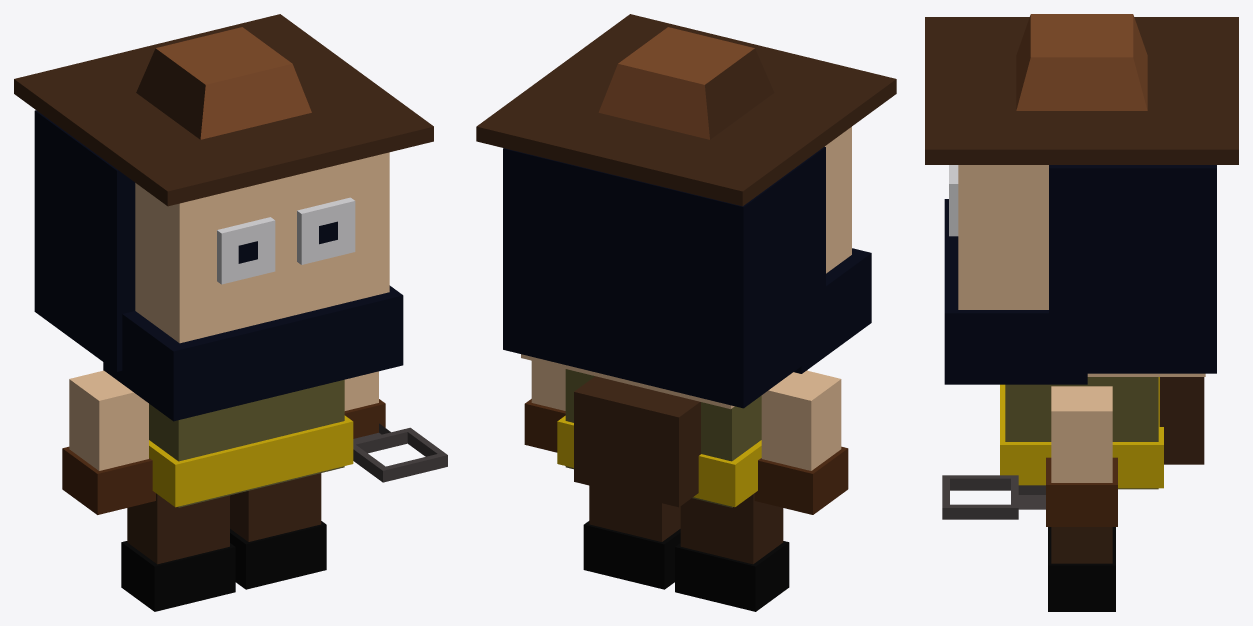
Rendered from character.fbx.
The picture shows the model from 3 angles, left to right: view 1: azimuth 30°, elevation 25°; view 2: azimuth 150°, elevation 25°; view 3: azimuth 270°, elevation 25°; orthographic projection. The views are drawn at different scales.
Visible parts, largest first — view 1: Head, Hat, Torso, RightLeg, RightArm, LeftLeg, Cube, LeftArm; view 2: Head, Hat, Torso, RightArm, RightLeg, LeftLeg, LeftArm; view 3: Head, Hat, Torso, LeftArm, LeftLeg, Cube.
Part boxes in pixels (<box>): Head: <box>34,110,403,421</box>; Hat: <box>14,14,433,206</box>; Torso: <box>103,370,353,507</box>; RightLeg: <box>121,493,235,611</box>; RightArm: <box>62,370,155,514</box>; LeftLeg: <box>230,473,326,589</box>; Cube: <box>353,423,447,482</box>; LeftArm: <box>344,371,385,438</box>; Head: <box>503,127,871,409</box>; Hat: <box>476,14,896,206</box>; Torso: <box>557,369,807,507</box>; RightArm: <box>754,370,848,514</box>; RightLeg: <box>675,493,789,611</box>; LeftLeg: <box>583,485,680,589</box>; LeftArm: <box>524,361,565,452</box>; Head: <box>944,165,1216,384</box>; Hat: <box>925,14,1238,164</box>; Torso: <box>1000,377,1204,489</box>; LeftArm: <box>1046,386,1117,526</box>; LeftLeg: <box>1048,527,1115,611</box>; Cube: <box>942,475,1045,519</box>.
Bounding box in the file's own units: 145 × 241 × 129.
